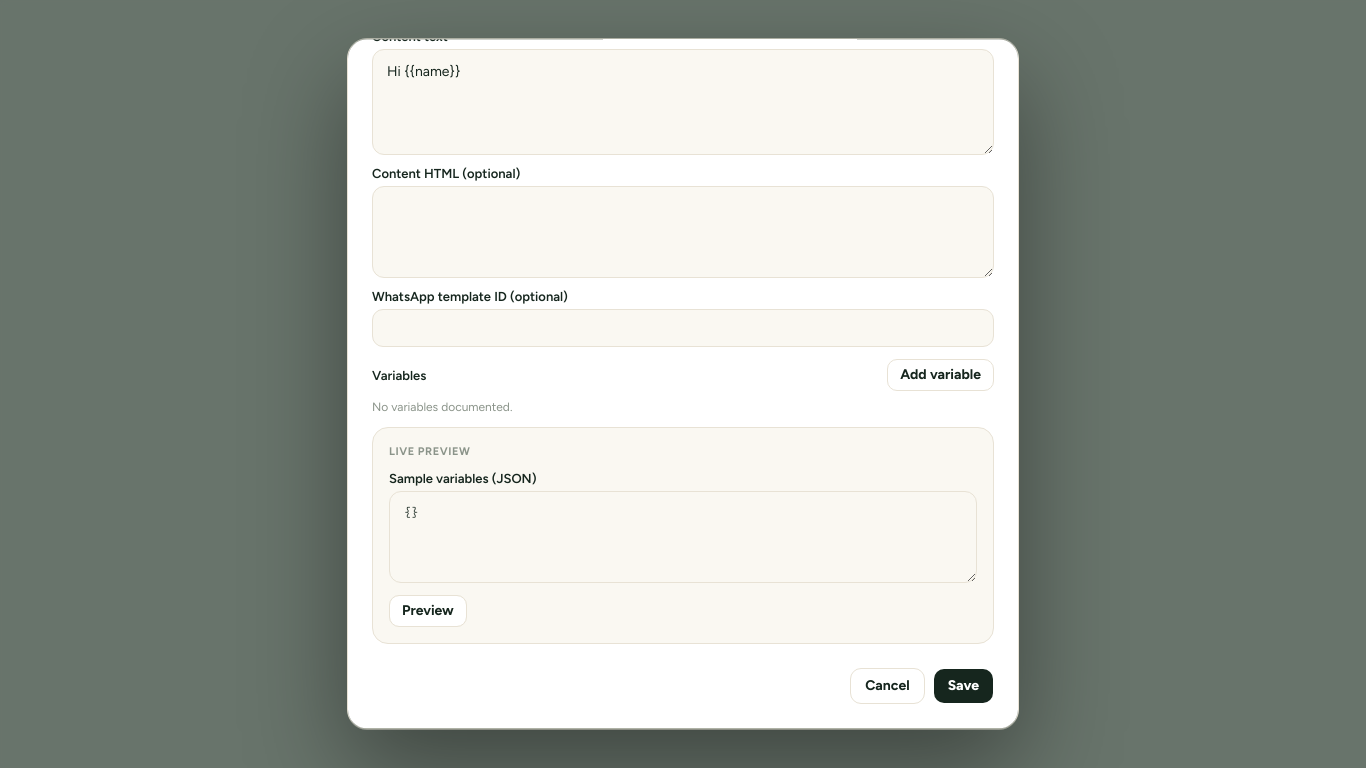
Test case: TemplateEditorDialog › renders a live preview from sample variables
(page scrolled)
Click the button "Preview". click: (428, 611)
box: left=389, top=595, right=467, bottom=627
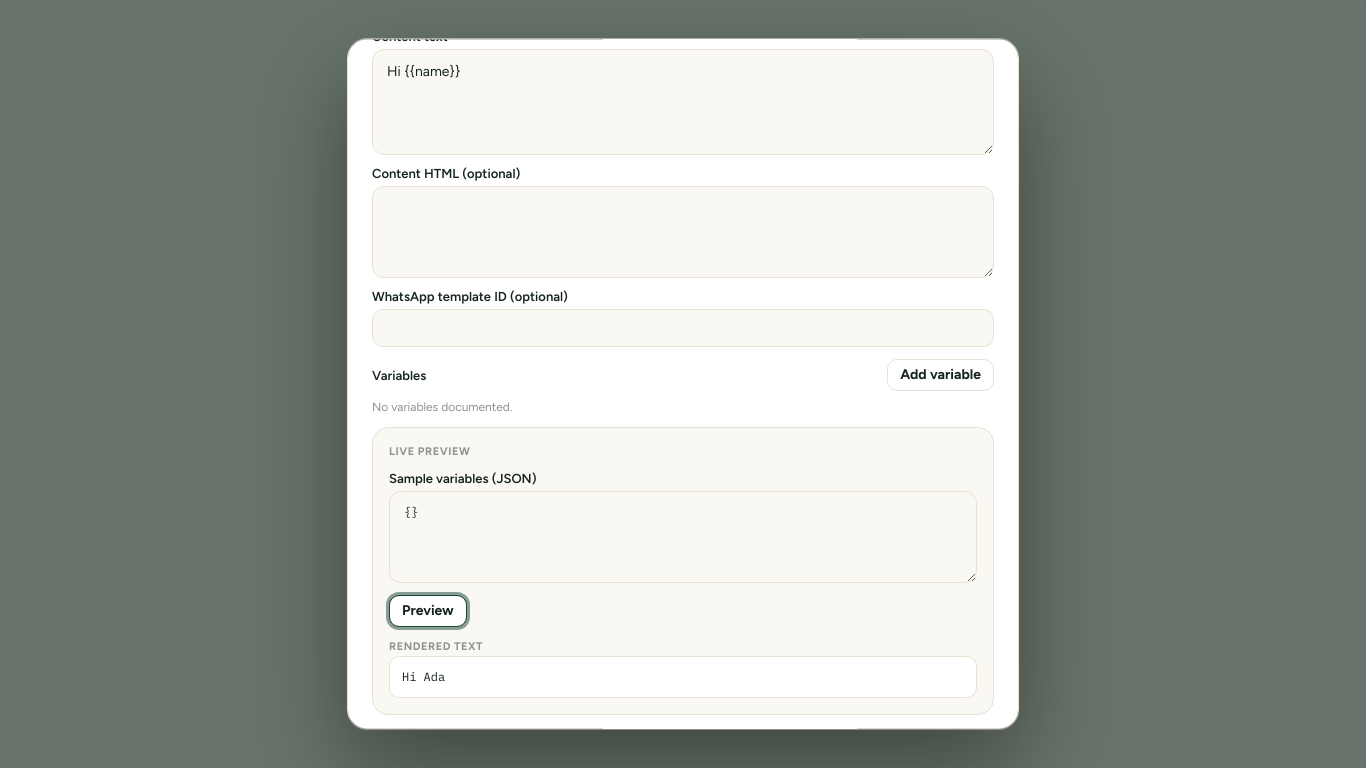
Now the text "Hi Ada" is shown, box left=389, top=657, right=977, bottom=699
